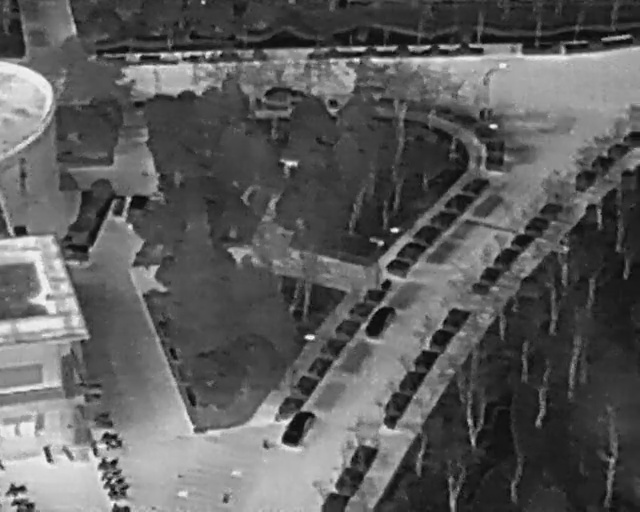Bicycle: (92, 453, 121, 474), (101, 472, 126, 491), (38, 442, 57, 466), (3, 479, 28, 497), (97, 464, 125, 480), (58, 442, 78, 464), (105, 485, 130, 501), (218, 487, 235, 507), (90, 410, 112, 422), (82, 391, 103, 402), (105, 439, 124, 451), (100, 429, 117, 441), (81, 382, 103, 391), (110, 502, 132, 511), (9, 496, 29, 505), (96, 419, 115, 428), (16, 502, 35, 511)
Car: (276, 400, 321, 453), (358, 298, 400, 346)
OtherVehicle: (123, 188, 152, 228)
